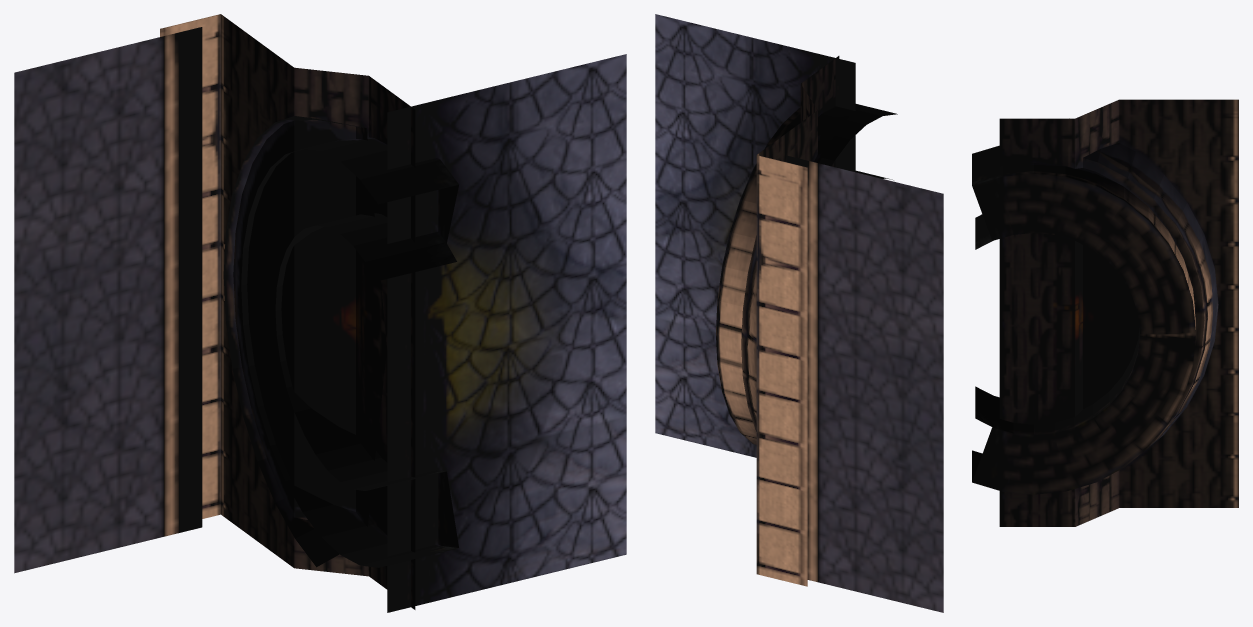
File: ex_Wall1Arc.obj
3 renders of one model, left to right at view 1: azimuth 30°, elevation 25°; view 2: azimuth 150°, elevation 25°; view 3: azimuth 270°, elevation 25°, orthographic. The views are drawn at different scales.
Parts seen in each view (by area): view 1: ex_Wall1Arc_Cylinder.003, object 2; view 2: ex_Wall1Arc_Cylinder.003, object 2; view 3: ex_Wall1Arc_Cylinder.003.
Part boxes in pixels (x1=…): ex_Wall1Arc_Cylinder.003: x1=160, y1=14, x2=626, y2=612; object 2: x1=14, y1=27, x2=202, y2=573; ex_Wall1Arc_Cylinder.003: x1=655, y1=14, x2=897, y2=586; object 2: x1=786, y1=155, x2=943, y2=612; ex_Wall1Arc_Cylinder.003: x1=972, y1=99, x2=1238, y2=526.
Bounding box in the file's own units: 256 × 256 × 152.
